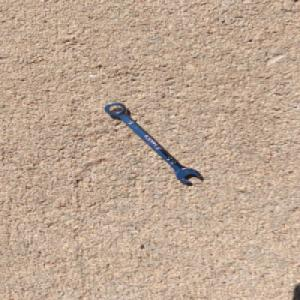Wrench: (102, 101, 203, 184)
